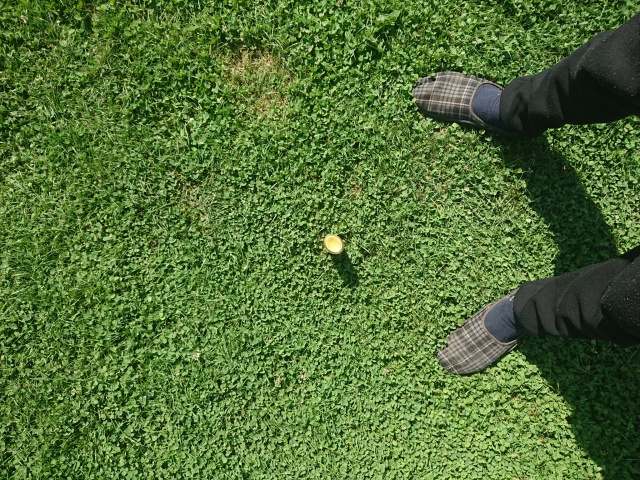Kotanyi Curry Spices Mix 70g: (322, 232, 345, 256)
